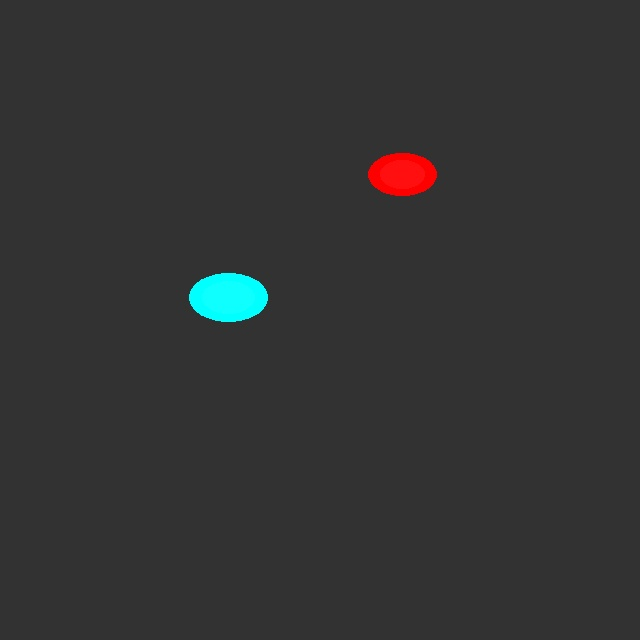fish: (188, 272, 268, 321), (368, 153, 436, 195)
